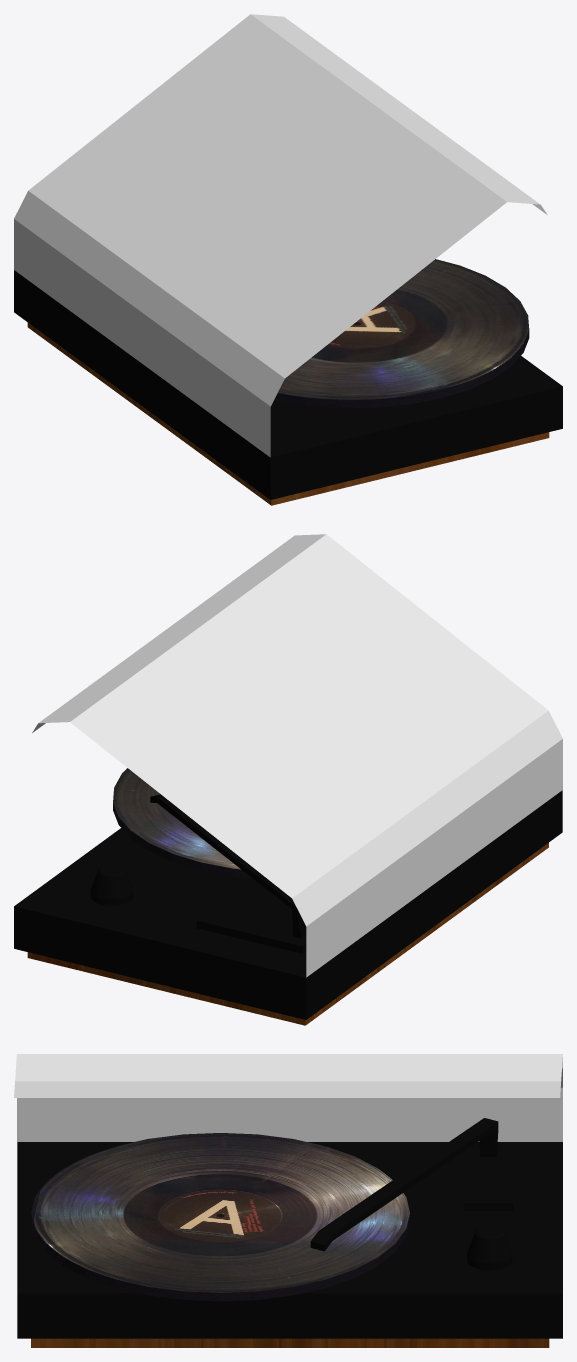
File: recordplayer no speakers.glb
3 views of the same model, one above another, from view 1: azimuth 30°, elevation 25°; view 2: azimuth 150°, elevation 25°; view 3: azimuth 270°, elevation 25° (orthographic). The views are drawn at different scales.
Parts seen in each view (by area): view 1: JustRecordPlayer; view 2: JustRecordPlayer; view 3: JustRecordPlayer.
Boxes of the visible parts, x1,y1,x2,y2 form: JustRecordPlayer: [14, 14, 562, 505]; JustRecordPlayer: [14, 534, 562, 1025]; JustRecordPlayer: [14, 1054, 562, 1347].
Bounding box in the file's own units: 1.42 × 1.04 × 1.92.
Materials: 5 (2 with a texture image).
